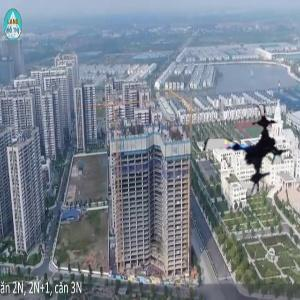drone: (196, 102, 298, 204)
